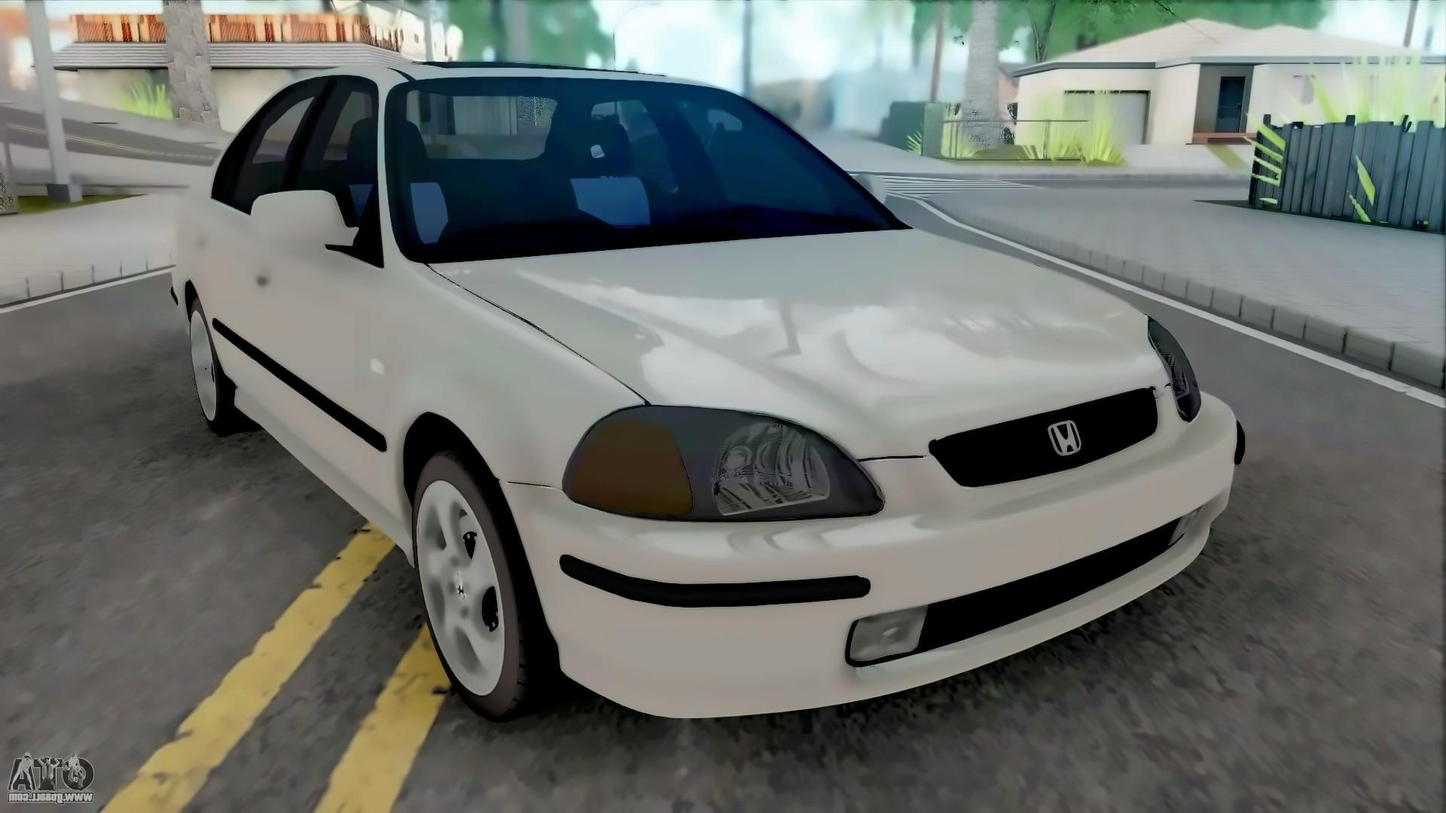Car hood: (420, 246, 1199, 455)
Driver-s door - -F-R-: (290, 73, 400, 491)
Fender - -F-R-: (370, 257, 698, 571)
Front bumper: (495, 470, 1304, 724)
Headlight - -L-: (1125, 306, 1222, 434)
Headlight - -R-: (555, 389, 902, 528)
Passenger-s door - -R-R-: (216, 71, 297, 437)
Side bumper - -R-: (206, 384, 430, 598)
Side mirror - -R-: (236, 168, 377, 275)
